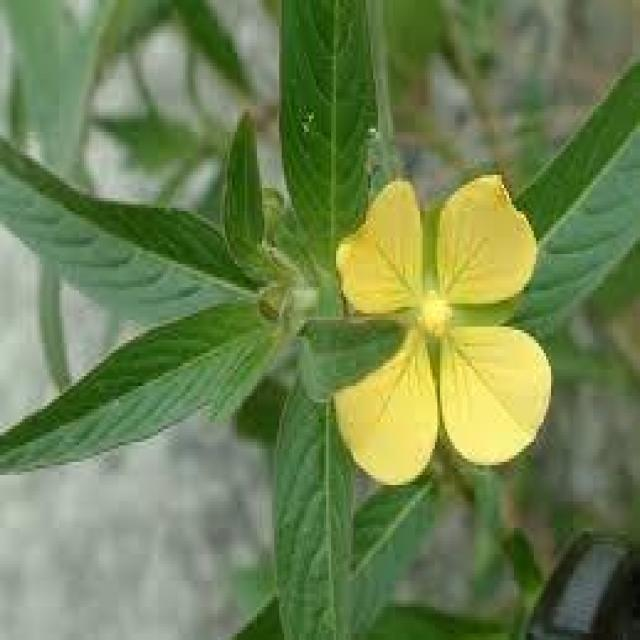organic waste: (330, 172, 557, 478)
